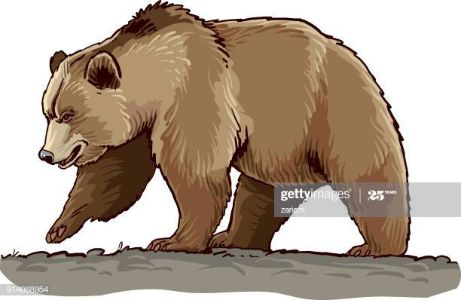bear: (38, 2, 420, 261)
